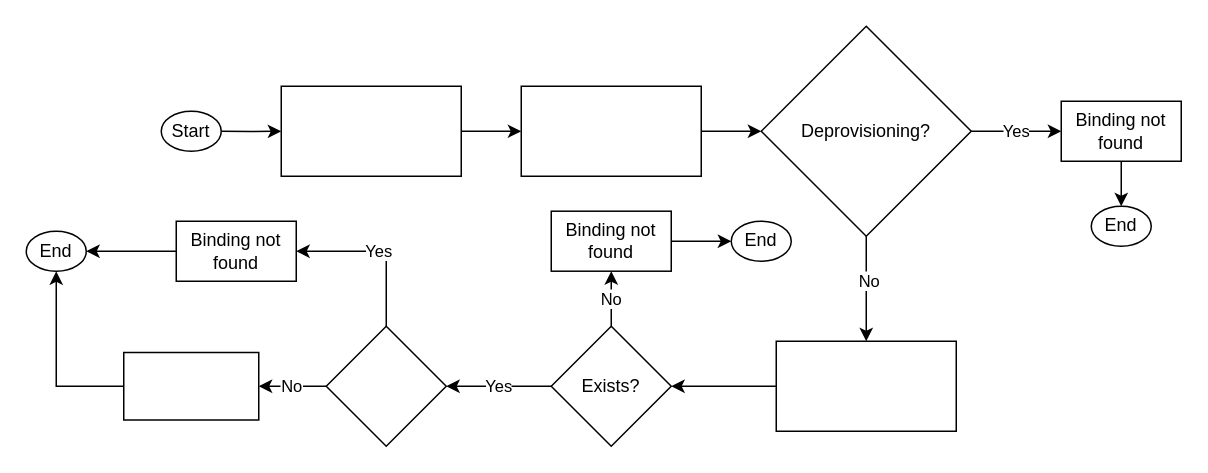
The diagram is 1208 pixels wide and 473 high, and some of its shapes have lost their labels. Each missing label, with the centre of its shape:
Check if the operation is of type deprovisioning?: (610,130)
Expired?: (385,385)
Load binding for given instance and binding id: (865,385)
Load last operation for an instanceID passed in the request: (370,130)
Return found binding: (190,385)
